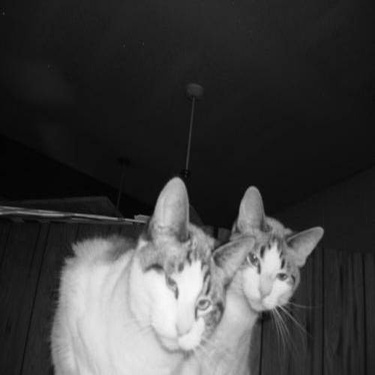cat: (38, 129, 203, 371), (202, 177, 329, 369)
